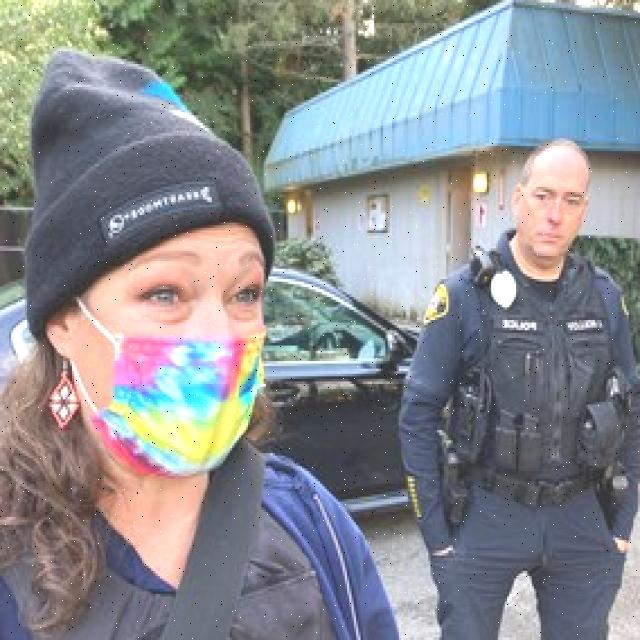police: (381, 97, 640, 640)
